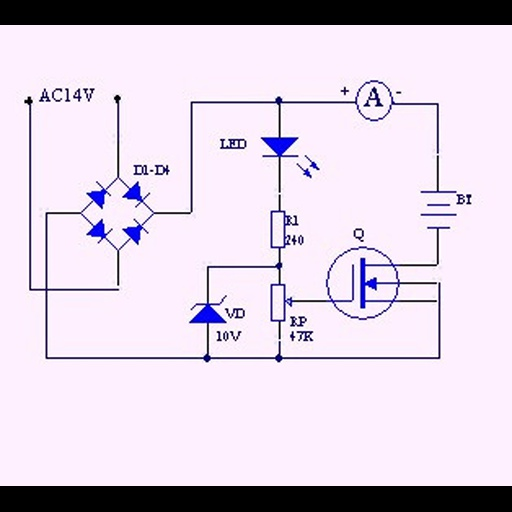battery: (416, 187, 458, 232)
firstled: (257, 132, 324, 180)
firstresistance: (265, 205, 285, 257)
rectifierbridge: (80, 174, 155, 251)
